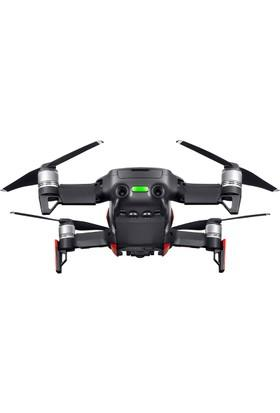drone: (3, 146, 280, 283)
